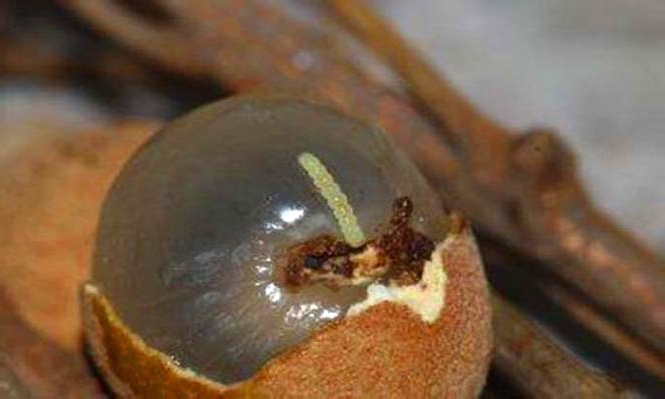Borer: (295, 148, 365, 248)
